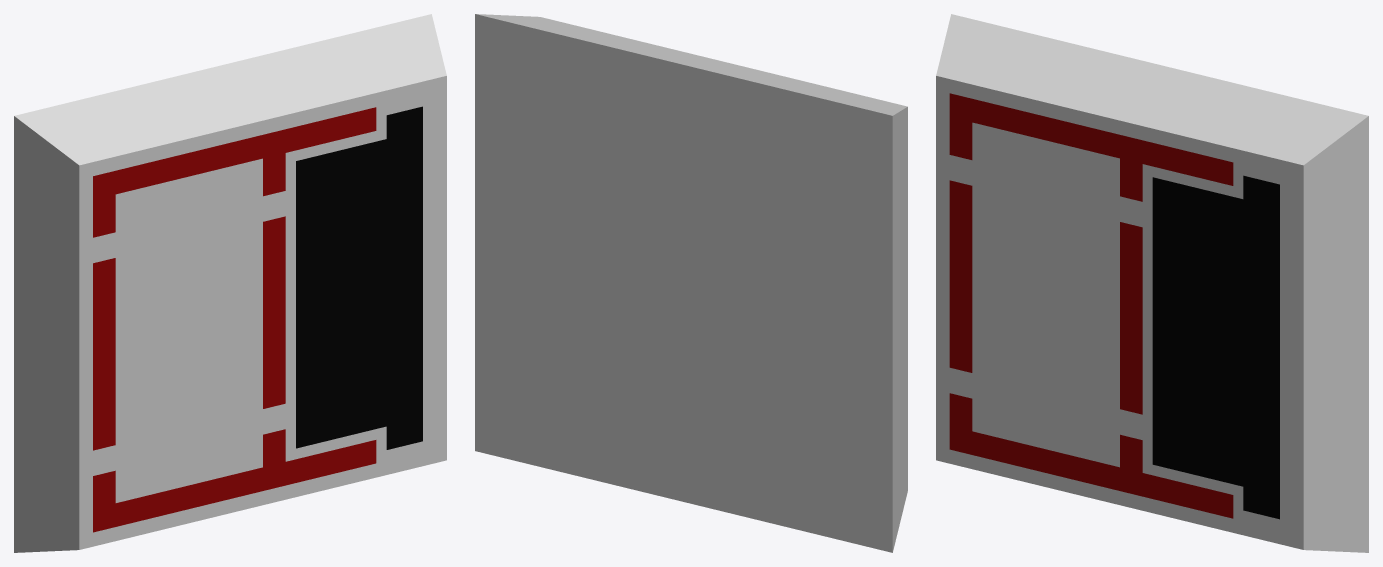
The model's file is SciFi_Semiotic_Bulkhead_Door_01.fbx.
3 views of the same model, side by side, from view 1: azimuth 30°, elevation 25°; view 2: azimuth 150°, elevation 25°; view 3: azimuth 330°, elevation 25° (orthographic).
Parts seen in each view (by area): view 1: Model; view 2: Model; view 3: Model.
Boxes of the visible parts, bbox=[...] form: Model: bbox=[14, 14, 446, 552]; Model: bbox=[475, 14, 907, 552]; Model: bbox=[936, 14, 1368, 552].
Bounding box in the file's own units: 251 × 251 × 41.83.
